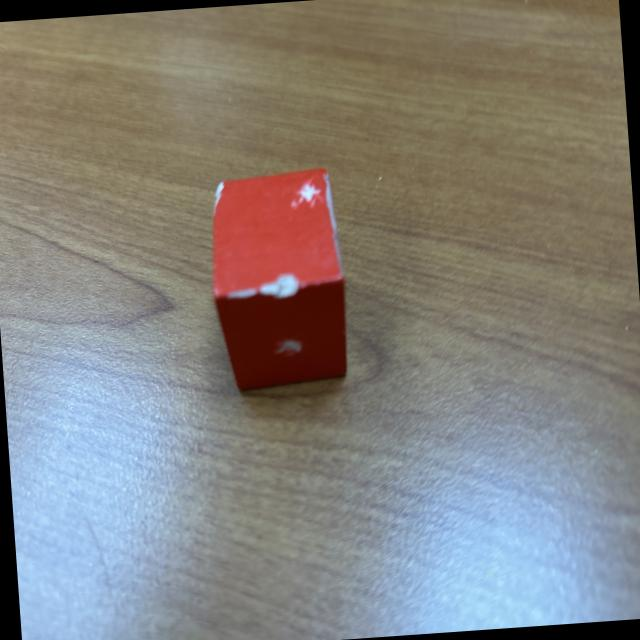broken: (203, 167, 355, 394)
